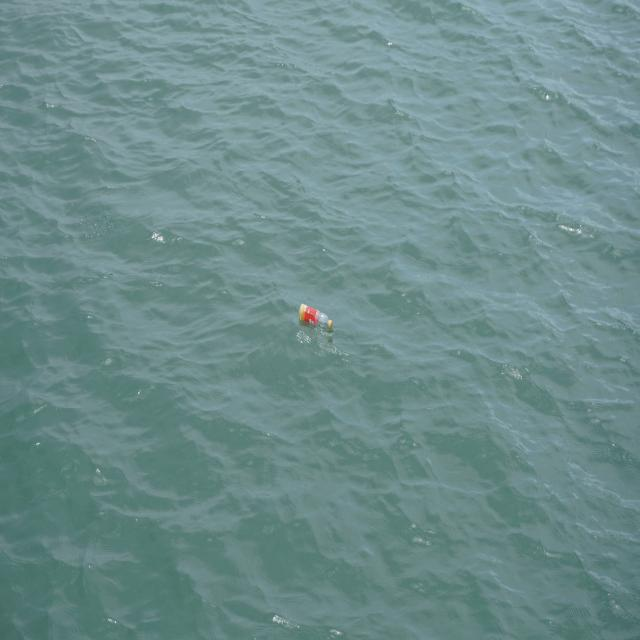Botol Plastik: (297, 298, 338, 340)
